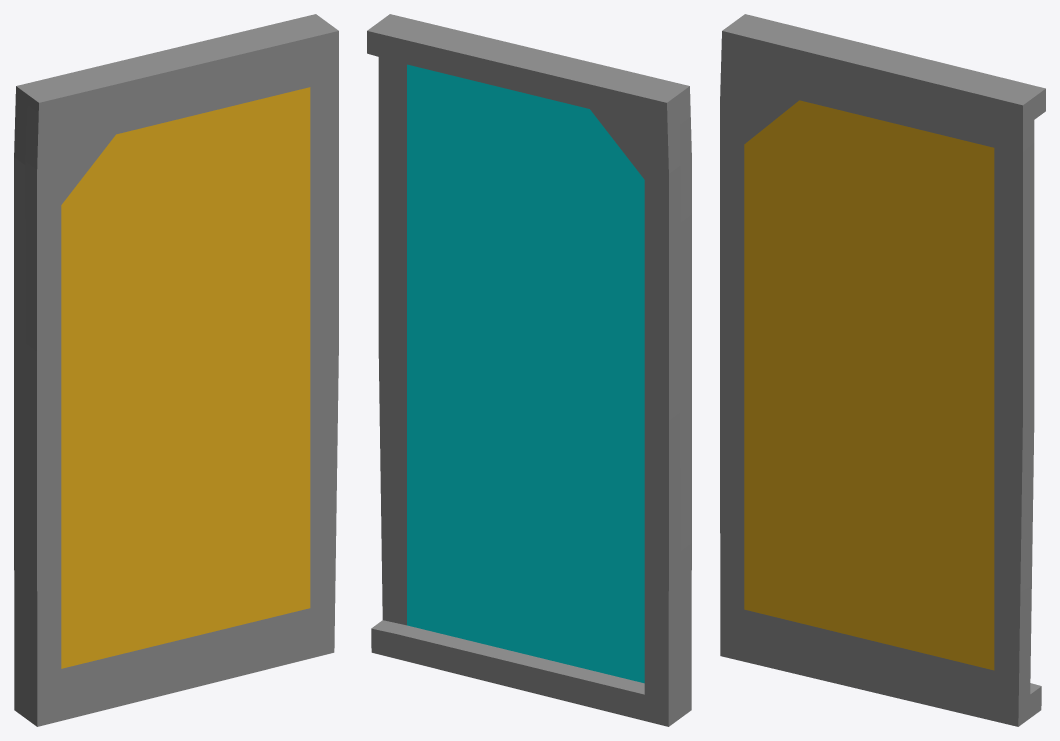
The model's file is MOD_fenetredemi.FBX.
3 renders of one model, left to right at view 1: azimuth 30°, elevation 25°; view 2: azimuth 150°, elevation 25°; view 3: azimuth 330°, elevation 25°, orthographic.
Parts seen in each view (by area): view 1: MOD_FenetreA; view 2: MOD_FenetreA; view 3: MOD_FenetreA.
Boxes of the visible parts, x1,y1,x2,y2 form: MOD_FenetreA: (14, 14, 338, 726); MOD_FenetreA: (367, 14, 691, 726); MOD_FenetreA: (720, 14, 1045, 726).
Size of the model in its own units: 0.9683 by 1.91 by 0.1277.
